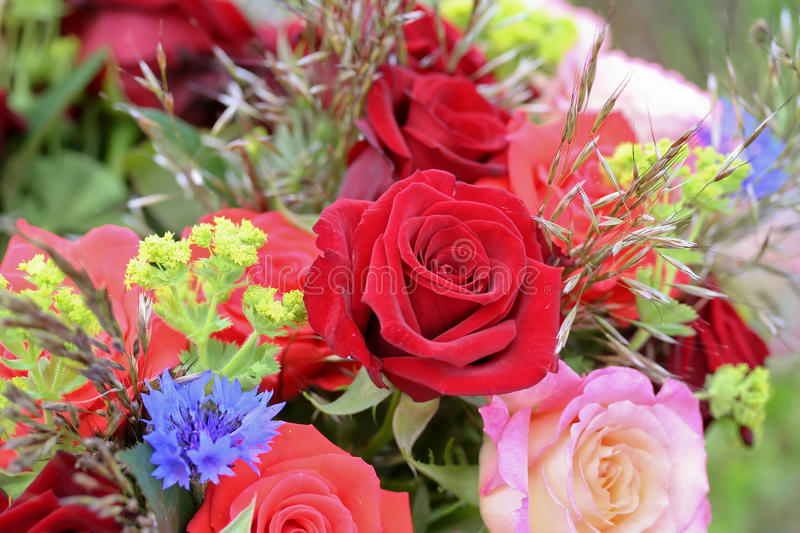RedRose: (316, 179, 564, 400), (52, 2, 266, 108), (361, 51, 514, 191), (669, 290, 780, 415), (0, 459, 111, 533)
